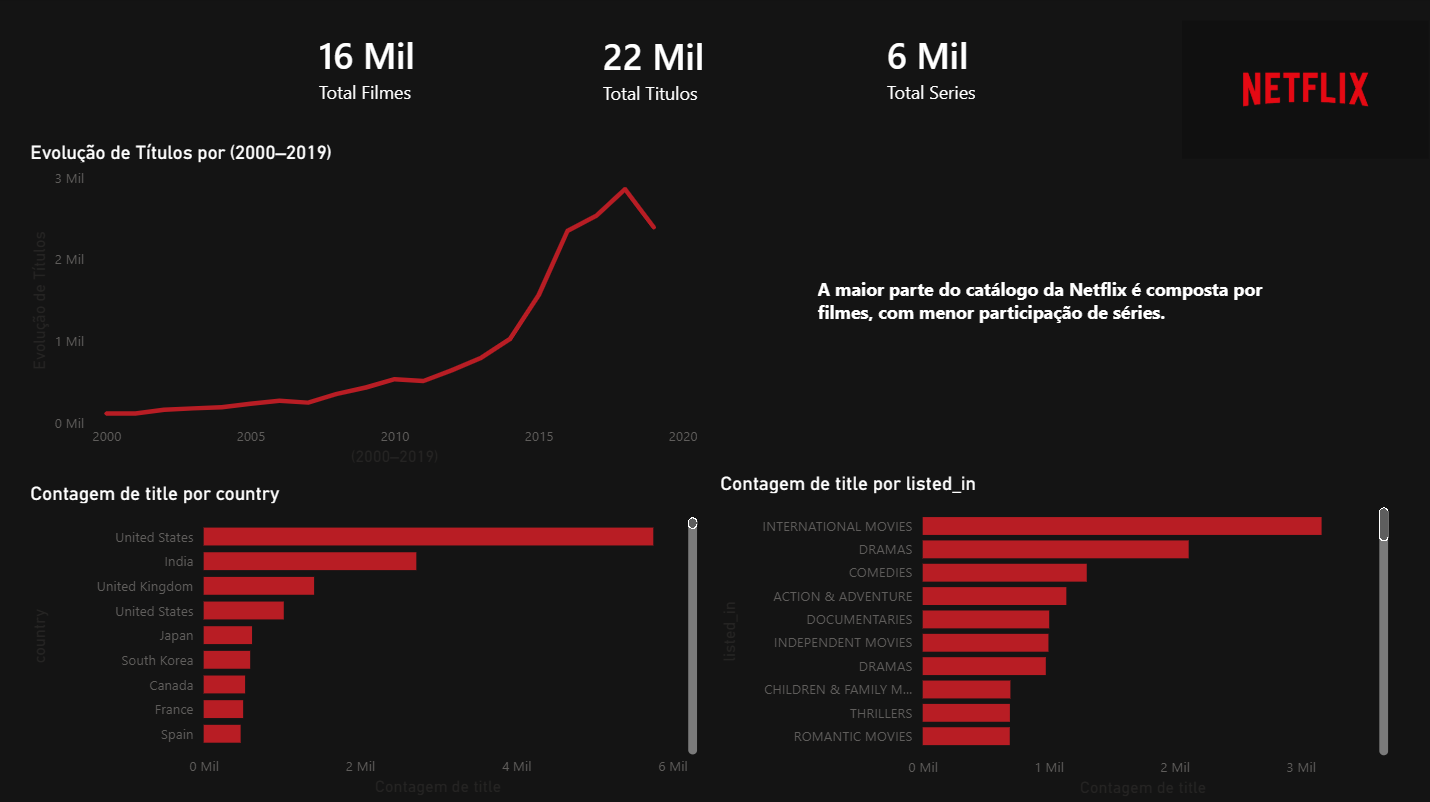

The page's visual inventory and layout, read from the dashboard file:
{"tool":"powerbi","page":{"name":"Página 1","canvas":[1280,720],"ordinal":0},"visuals":[{"type":"lineChart","fields":{"Category":["netflix_completo.release_year"],"Y":["CountNonNull(netflix_completo.title)"]},"box":[22.4,128.4,606.9,295.7],"z":0},{"type":"clusteredBarChart","fields":{"Category":["netflix_completo.listed_in"],"Y":["CountNonNull(netflix_completo.title)"]},"box":[640,424.1,607.9,295.7],"z":1000},{"type":"clusteredBarChart","fields":{"Category":["netflix_completo.country"],"Y":["CountNonNull(netflix_completo.title)"]},"box":[22.4,433.8,606.9,286],"z":2000},{"type":"cardVisual","fields":{"Data":["netflix_completo.Total Filmes"]},"box":[218.5,10.7,254.3,103],"z":3000},{"type":"cardVisual","fields":{"Data":["netflix_completo.Total Titulos"]},"box":[472.7,10.7,267.5,103.1],"z":4000},{"type":"textbox","box":[727.2,244.5,426.3,69.9],"z":5000},{"type":"cardVisual","fields":{"Data":["netflix_completo.Total Series"]},"box":[727.2,10.7,310.7,103],"z":5001},{"type":"image","box":[1058.5,0,221.2,163.9],"z":5002}]}

Visuals, with their boxes in screenshot pixels (x1, y1, x2, y2), scaled from the page's 1280x720 canvas onto the 1430x802 screenshot:
lineChart - netflix_completo.release_year x CountNonNull(netflix_completo.title): <box>25,143,703,472</box>
clusteredBarChart - netflix_completo.listed_in x CountNonNull(netflix_completo.title): <box>715,472,1394,801</box>
clusteredBarChart - netflix_completo.country x CountNonNull(netflix_completo.title): <box>25,483,703,801</box>
cardVisual - netflix_completo.Total Filmes: <box>244,12,528,127</box>
cardVisual - netflix_completo.Total Titulos: <box>528,12,827,127</box>
textbox: <box>812,272,1289,350</box>
cardVisual - netflix_completo.Total Series: <box>812,12,1160,127</box>
image: <box>1183,0,1429,183</box>
